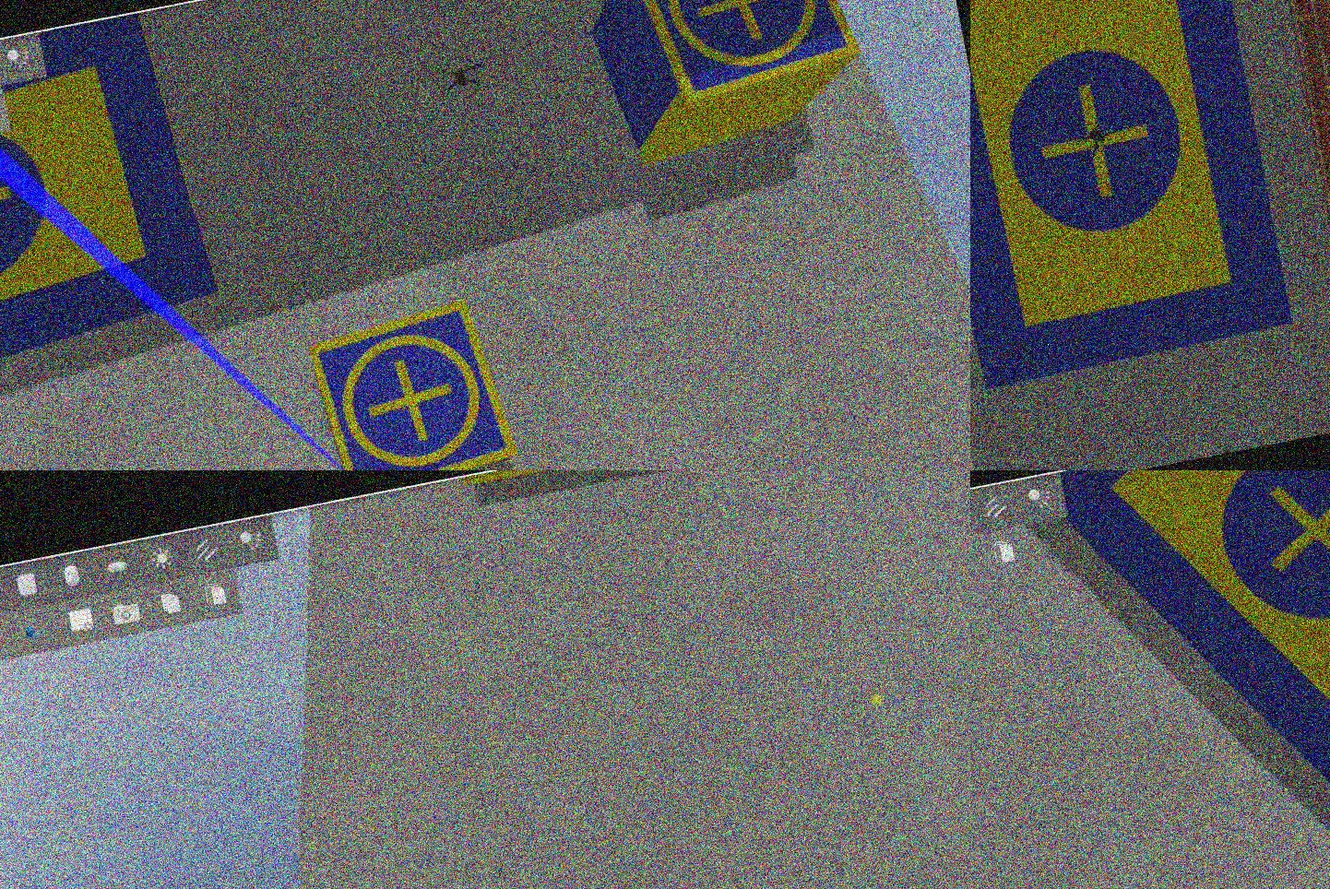large_base: (970, 1, 1296, 391), (1058, 471, 1330, 864), (1, 6, 232, 433)
small_base: (300, 290, 526, 471), (614, 1, 868, 112)
